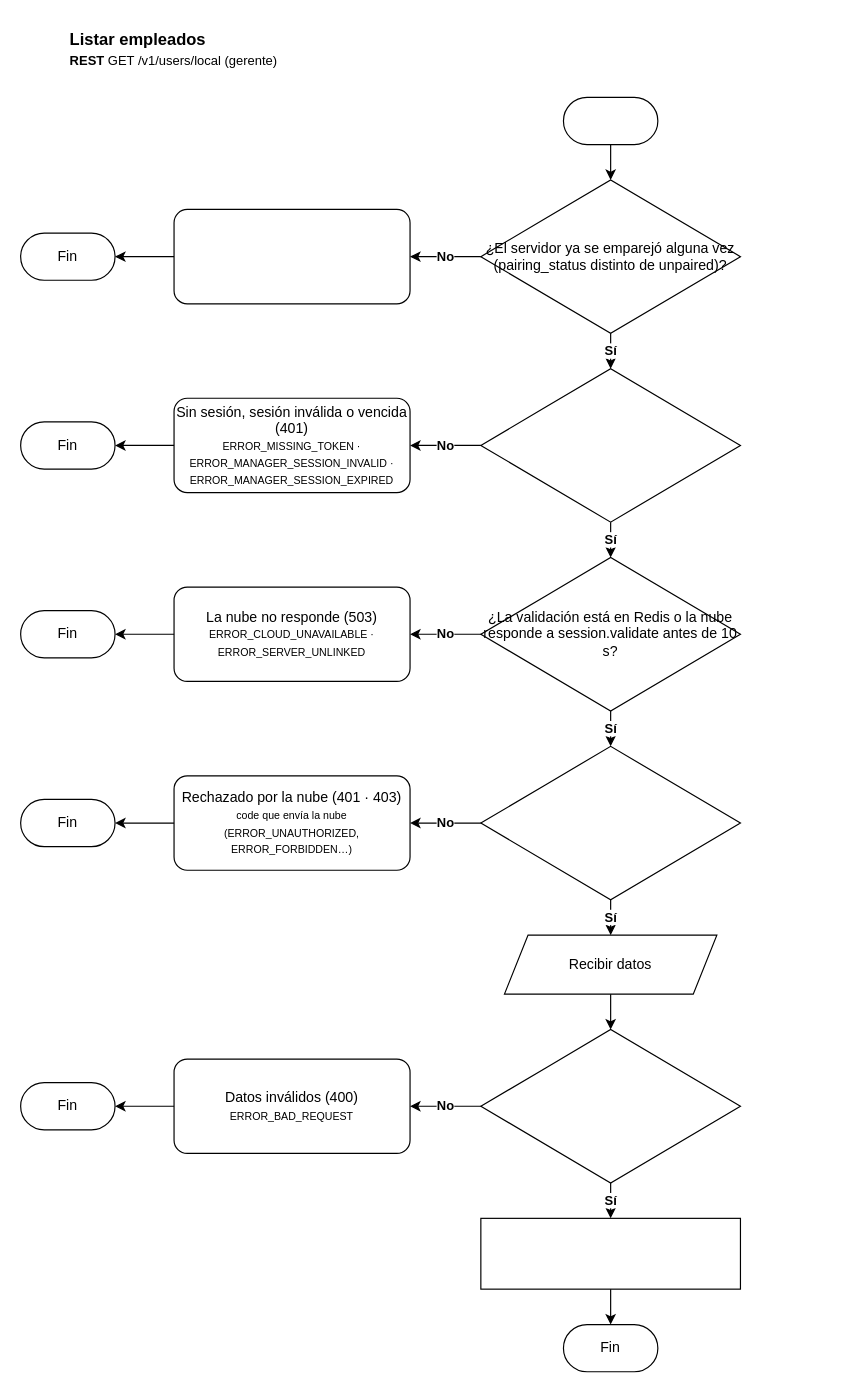
Image size: 844x1392. Some labels were removed from this diagram. Here are the shapes that lost their labels. From the top down, the centre of each, then its label:
(610,120): Inicio
(291,256): Servidor sin emparejar (409) ERROR_SERVER_NOT_PAIRED
(610,445): ¿Trae una sesión de gerente válida (Bearer mss_..., sin 30 min de inactividad)?
(610,822): ¿La nube acepta la sesión del gerente con este servidor?
(610,1105): ¿Los datos son válidos?
(610,1253): Responder 200 con el mensaje USERS_RETRIEVED
